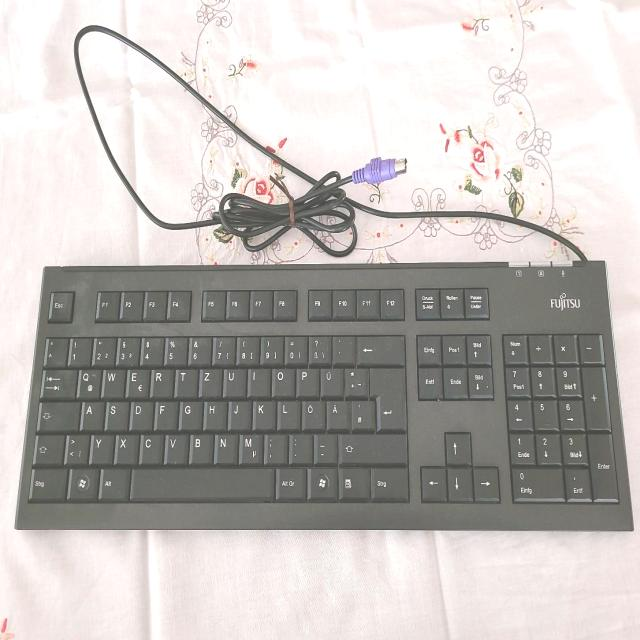0: (283, 333, 306, 364)
1: (68, 335, 91, 365)
2: (93, 335, 115, 365)
3: (116, 335, 139, 365)
4: (140, 334, 162, 364)
5: (164, 334, 186, 364)
6: (188, 334, 211, 364)
7: (212, 334, 234, 364)
8: (236, 333, 258, 364)
9: (259, 333, 281, 363)
a: (81, 399, 103, 429)
accent: (332, 333, 354, 363)
ae: (326, 399, 348, 429)
alt-left: (98, 466, 126, 498)
altgr-right: (274, 465, 304, 498)
b: (189, 432, 211, 463)
c: (139, 432, 161, 463)
caret: (43, 335, 66, 365)
comma: (263, 432, 285, 463)
d: (129, 399, 151, 429)
del: (354, 332, 404, 363)
e: (126, 366, 148, 396)
enter: (369, 365, 405, 431)
f: (155, 399, 176, 429)
g: (179, 398, 200, 428)
h: (204, 399, 224, 429)
hash: (349, 399, 373, 429)
i: (246, 366, 268, 395)
j: (227, 398, 249, 428)
k: (252, 398, 274, 428)
keyboard: (12, 255, 635, 534)
l: (277, 398, 298, 428)
less: (64, 431, 88, 463)
m: (239, 432, 261, 463)
minus: (313, 432, 335, 462)
n: (215, 432, 235, 462)
o: (270, 366, 292, 396)
oe: (301, 398, 323, 428)
p: (295, 365, 317, 395)
plus: (344, 365, 367, 395)
point: (288, 432, 310, 462)
q: (76, 367, 100, 397)
r: (150, 366, 172, 396)
s: (105, 399, 127, 429)
shift-left: (32, 433, 62, 464)
shift-lock: (36, 400, 79, 430)
shift-right: (338, 432, 405, 462)
space: (129, 466, 272, 499)
ss: (307, 333, 329, 363)
strg-left: (27, 466, 66, 499)
strg-right: (369, 466, 407, 499)
t: (175, 367, 196, 396)
tab: (40, 367, 76, 397)
u: (222, 366, 243, 396)
ue: (319, 365, 341, 395)
v: (164, 432, 186, 462)
w: (102, 367, 124, 397)
x: (115, 432, 136, 462)
y: (89, 432, 111, 462)
z: (199, 366, 219, 396)
